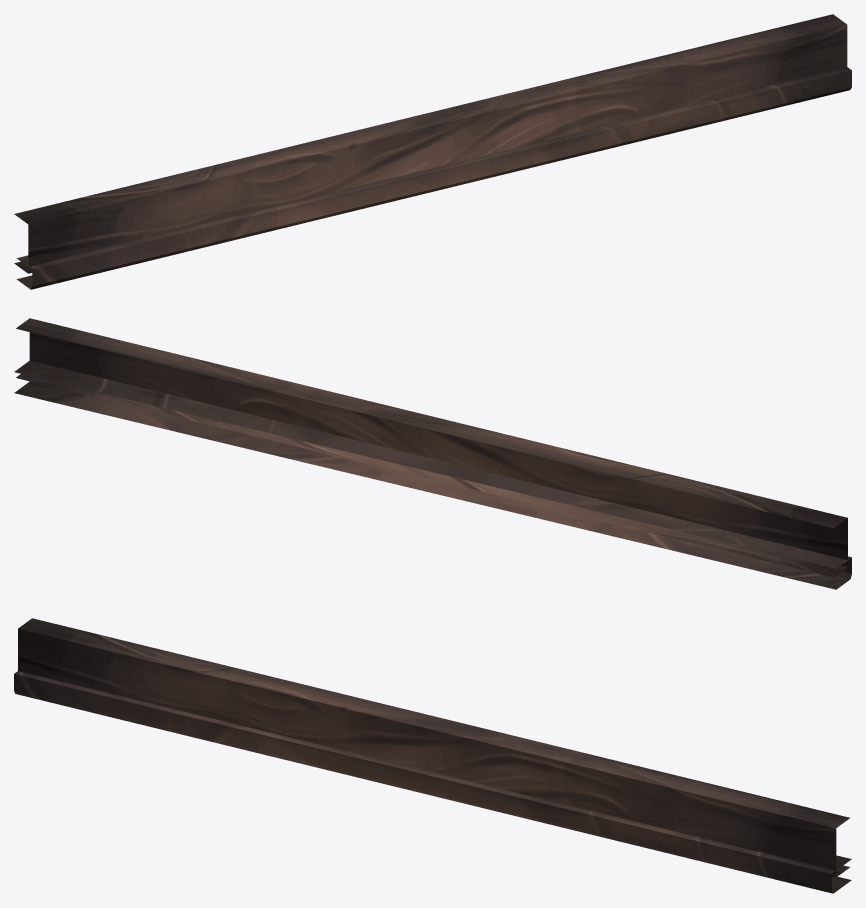
The model's file is Wall_Beamt.fbx.
The picture shows the model from 3 angles, top to bottom: view 1: azimuth 30°, elevation 25°; view 2: azimuth 150°, elevation 25°; view 3: azimuth 330°, elevation 25°; orthographic projection.
Parts seen in each view (by area): view 1: Straight_Wall1; view 2: Straight_Wall1; view 3: Straight_Wall1.
Boxes of the visible parts, left/top/right/bottom form: Straight_Wall1: left=14, top=14, right=851, bottom=289; Straight_Wall1: left=14, top=318, right=851, bottom=589; Straight_Wall1: left=14, top=618, right=851, bottom=893.
Bounding box in the file's own units: 0.024 × 0.00177 × 0.00103.
